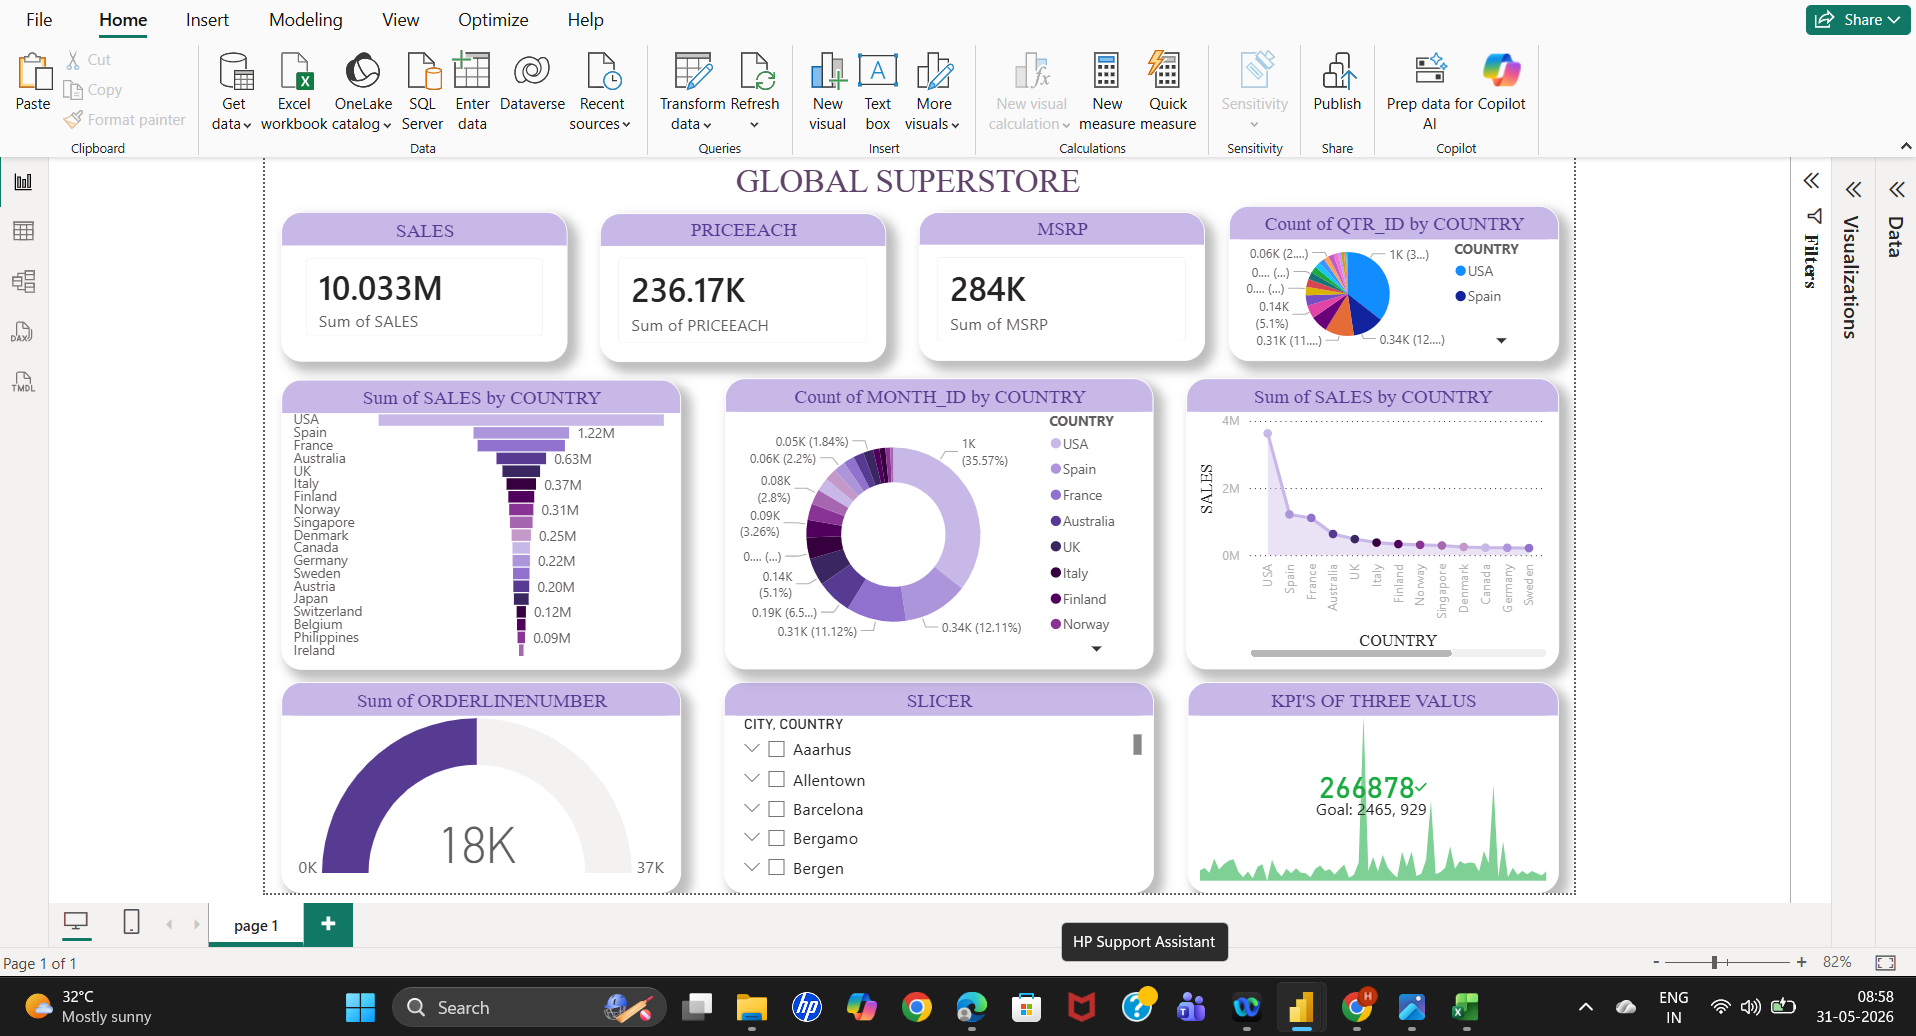

Layout of this report page (visuals, bound fields, positions):
{"tool":"powerbi","page":{"name":"page 1","canvas":[1280,720],"ordinal":0},"visuals":[{"type":"cardVisual","title":"SALES","fields":{"Data":["Sum(sales_data_sample.SALES)"]},"box":[15.9,53.8,280,146.7],"z":0},{"type":"cardVisual","title":"PRICEEACH","fields":{"Data":["Sum(sales_data_sample.PRICEEACH)"]},"box":[327.7,55,280,145.5],"z":1000},{"type":"cardVisual","title":"MSRP","fields":{"Data":["Sum(sales_data_sample.MSRP)"]},"box":[639.5,53.8,280,145.5],"z":2000},{"type":"pieChart","fields":{"Category":["sales_data_sample.COUNTRY"],"Y":["CountNonNull(sales_data_sample.QTR_ID)"]},"box":[942.8,47.7,322.8,151.6],"z":3000},{"type":"funnel","fields":{"Category":["sales_data_sample.COUNTRY"],"Y":["Sum(sales_data_sample.SALES)"]},"box":[15.9,217.7,391.3,283.7],"z":4000},{"type":"stackedAreaChart","fields":{"Category":["sales_data_sample.COUNTRY"],"Y":["Sum(sales_data_sample.SALES)"]},"box":[901.2,216.4,364.4,284.9],"z":5000},{"type":"gauge","fields":{"Y":["Sum(sales_data_sample.ORDERLINENUMBER)"]},"box":[15.9,513.6,391.3,206.7],"z":6000},{"type":"slicer","title":" SLICER","fields":{"Values":["sales_data_sample.CITY","sales_data_sample.COUNTRY"]},"box":[448.8,513.6,420.7,206.7],"z":7000},{"type":"kpi","title":"KPI''S OF THREE VALUS","fields":{"TrendLine":["sales_data_sample.CITY"],"Indicator":["Sum(sales_data_sample.ORDERNUMBER)"],"Goal":["Sum(sales_data_sample.MSRP)","Sum(sales_data_sample.QUANTITYORDERED)"]},"box":[902.5,513.6,363.2,206.7],"z":8000},{"type":"textbox","box":[387,0,481.6,48],"z":9000},{"type":"donutChart","fields":{"Category":["sales_data_sample.COUNTRY"],"Y":["CountNonNull(sales_data_sample.MONTH_ID)"]},"box":[450,216.4,419.4,284.9],"z":10000}]}

Visuals, with their boxes on the page's 1280x720 design canvas (x1, y1, x2, y2). These are canvas units, not pixel positions in the 1916x1036 screenshot, which may show the page scaled, cropped or inside an application window:
"SALES" cardVisual: (16, 54, 296, 200)
"PRICEEACH" cardVisual: (328, 55, 608, 200)
"MSRP" cardVisual: (640, 54, 920, 199)
pieChart - sales_data_sample.COUNTRY x CountNonNull(sales_data_sample.QTR_ID): (943, 48, 1266, 199)
funnel - sales_data_sample.COUNTRY x Sum(sales_data_sample.SALES): (16, 218, 407, 501)
stackedAreaChart - sales_data_sample.COUNTRY x Sum(sales_data_sample.SALES): (901, 216, 1266, 501)
gauge - Sum(sales_data_sample.ORDERLINENUMBER): (16, 514, 407, 720)
" SLICER" slicer: (449, 514, 870, 720)
"KPI''S OF THREE VALUS" kpi: (902, 514, 1266, 720)
textbox: (387, 0, 869, 48)
donutChart - sales_data_sample.COUNTRY x CountNonNull(sales_data_sample.MONTH_ID): (450, 216, 869, 501)
